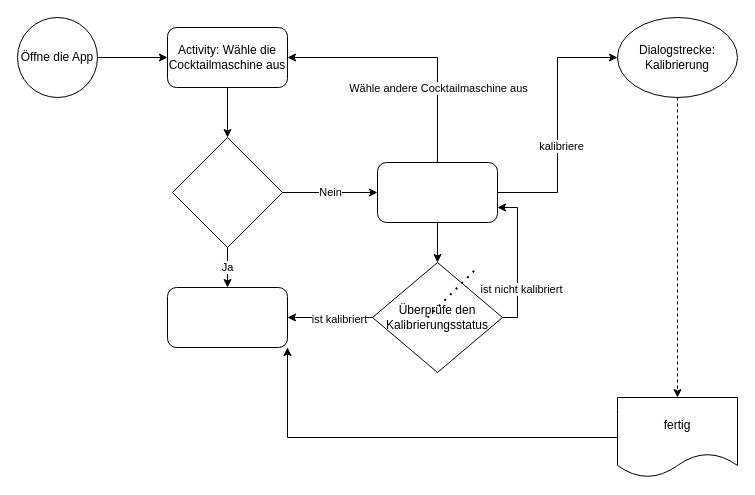
This 755x495 diagram has some shape labels left out. The box of each missing label's shape, as (x1, y1, x2, y2) in pixels:
Activity: Menu: (166, 286, 288, 348)
Activity: WaitNotSet: (376, 162, 498, 222)
Ist die Cocktailmaschine kalibriert?: (172, 136, 282, 248)
